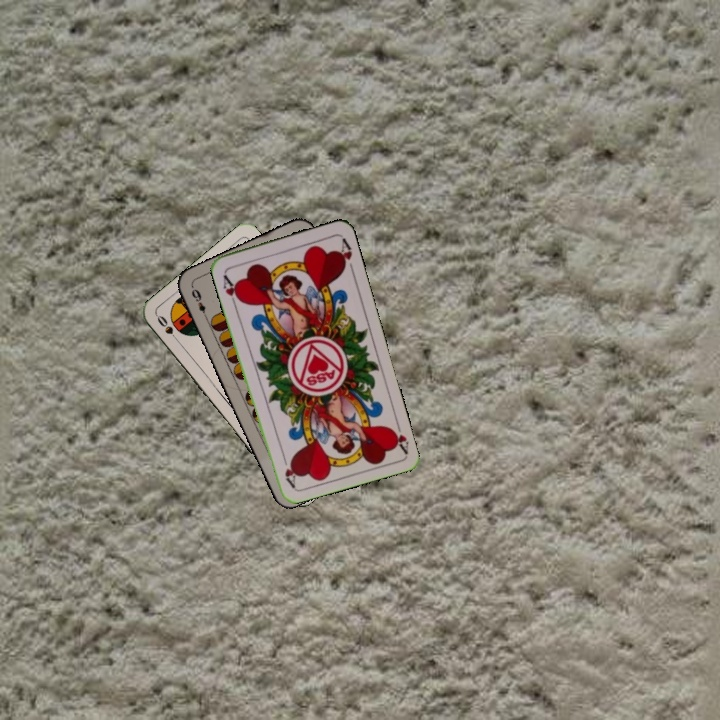E9: (187, 285, 210, 322)
HA: (219, 268, 244, 308), (386, 415, 411, 455)
SO: (153, 311, 183, 346)
